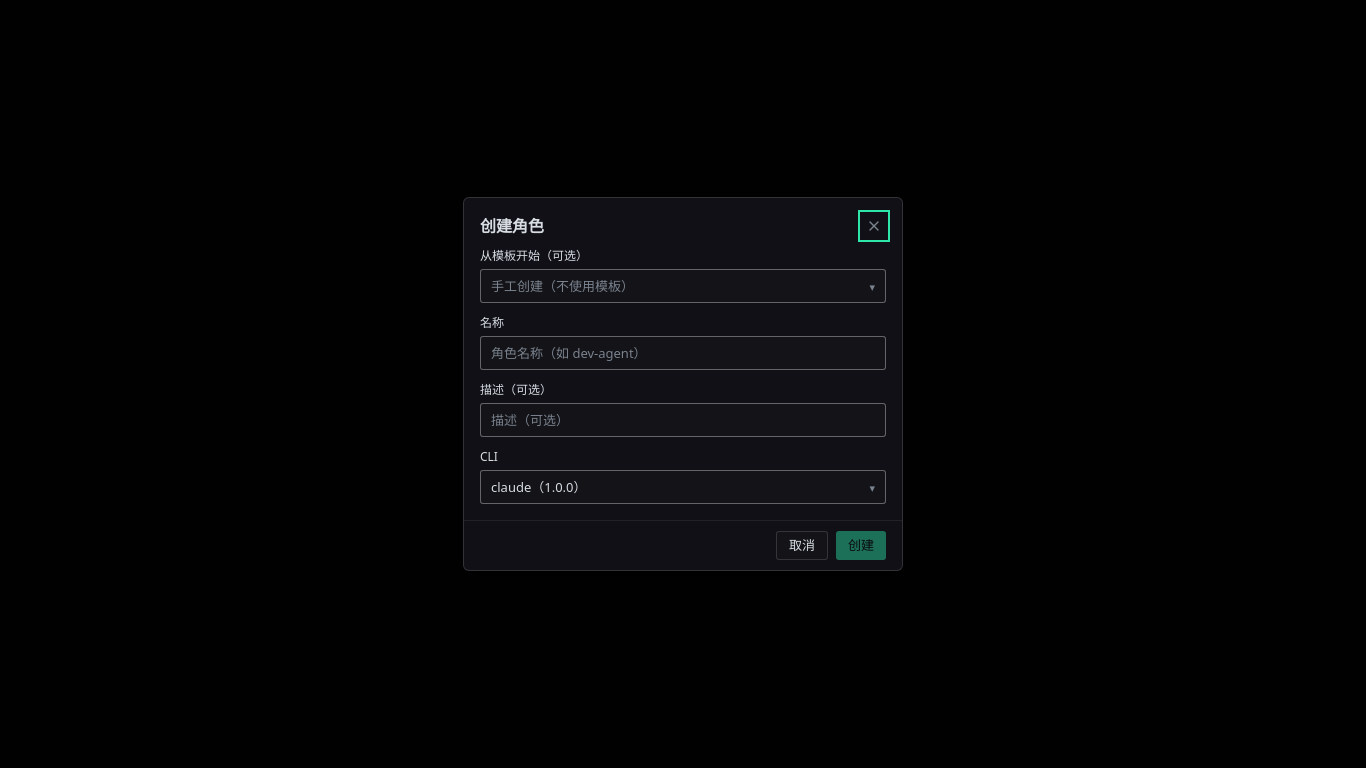
Scenario: RoleFormModal — #633 模板入口（create 模式「从模板开始」） › 打开时拉取 preset 清单并渲染「从模板开始」选择（默认手工创建）
The image size is (1366, 768).
Click the button with test id "role-form-preset": (563, 286) [480, 269, 886, 303]
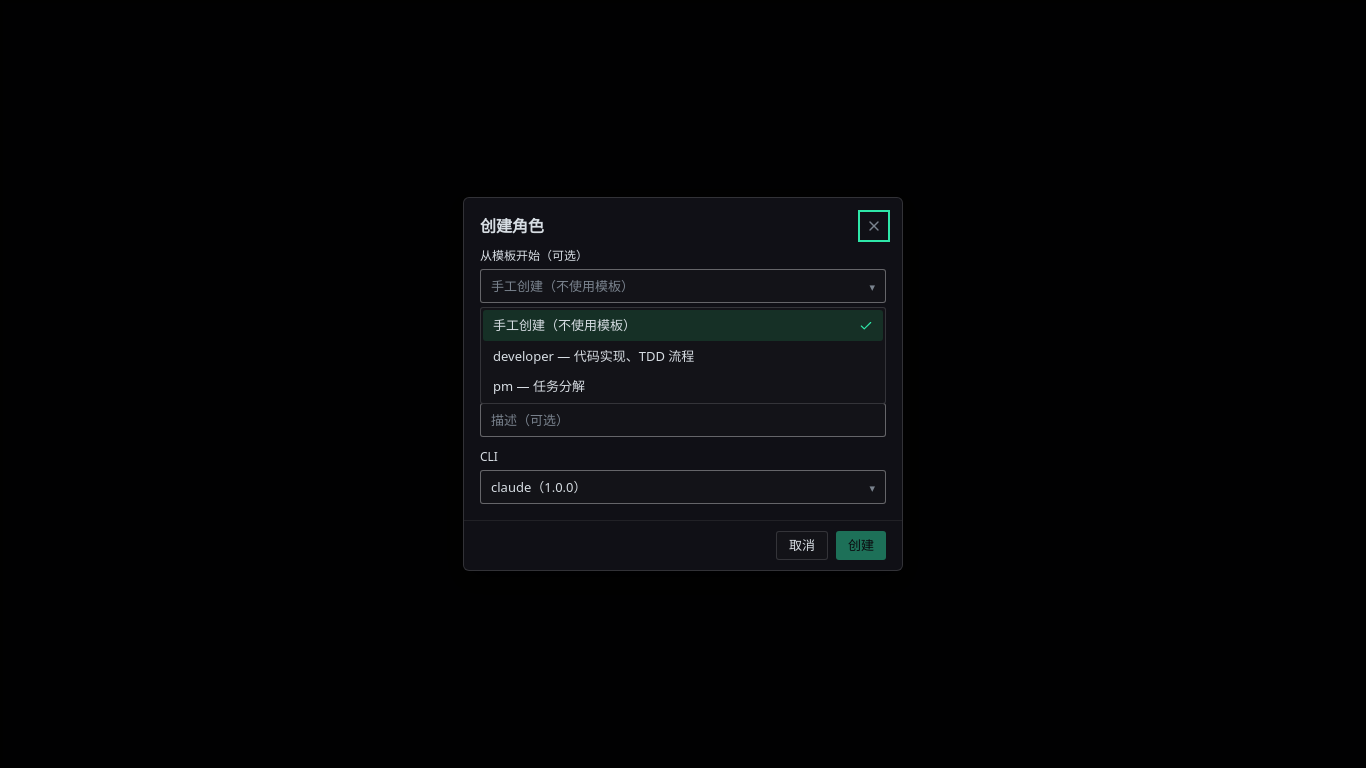
Result: the option "手工创建（不使用模板）" is shown at [483, 310, 883, 341]
Result: the option "developer — 代码实现、TDD 流程" is shown at [493, 347, 694, 365]
Result: the option "pm — 任务分解" is shown at [493, 377, 585, 395]
